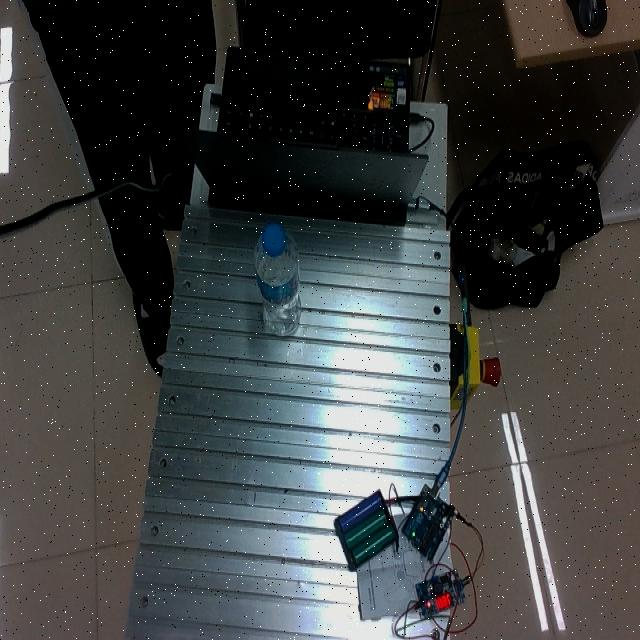lavie: (255, 223, 303, 336)
